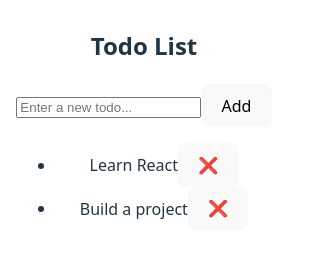
Test: TodoList Component › adds a new todo
Step 1. Type "New Task" into the field with test id "todo-input" → (109, 107), box [16, 97, 201, 118]
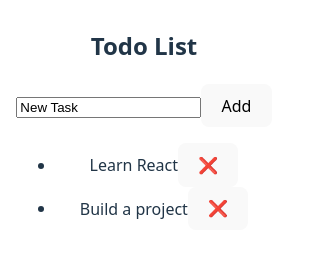
Step 2. Click the button "Add" → (237, 106), box [201, 84, 272, 127]
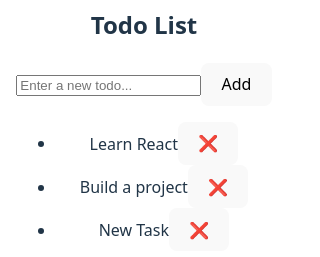
Now the list item "New Task" is shown, box [99, 219, 169, 241]
